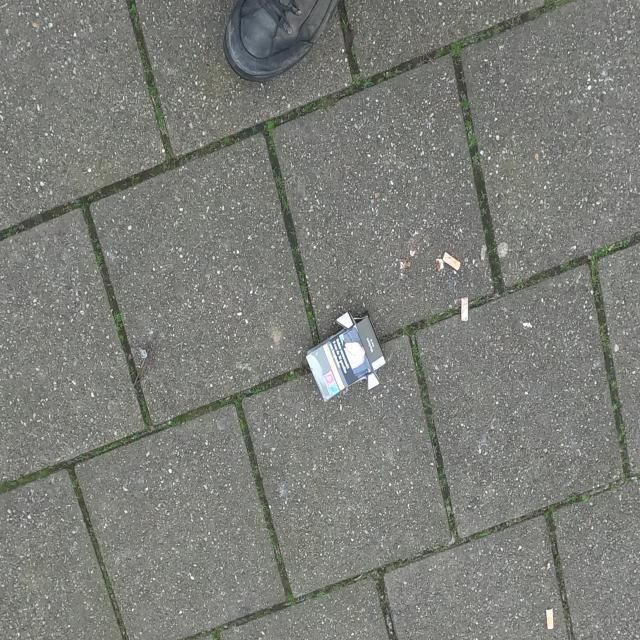Paper: (302, 308, 388, 404)
